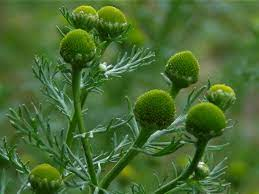pineple: (9, 99, 77, 165)
